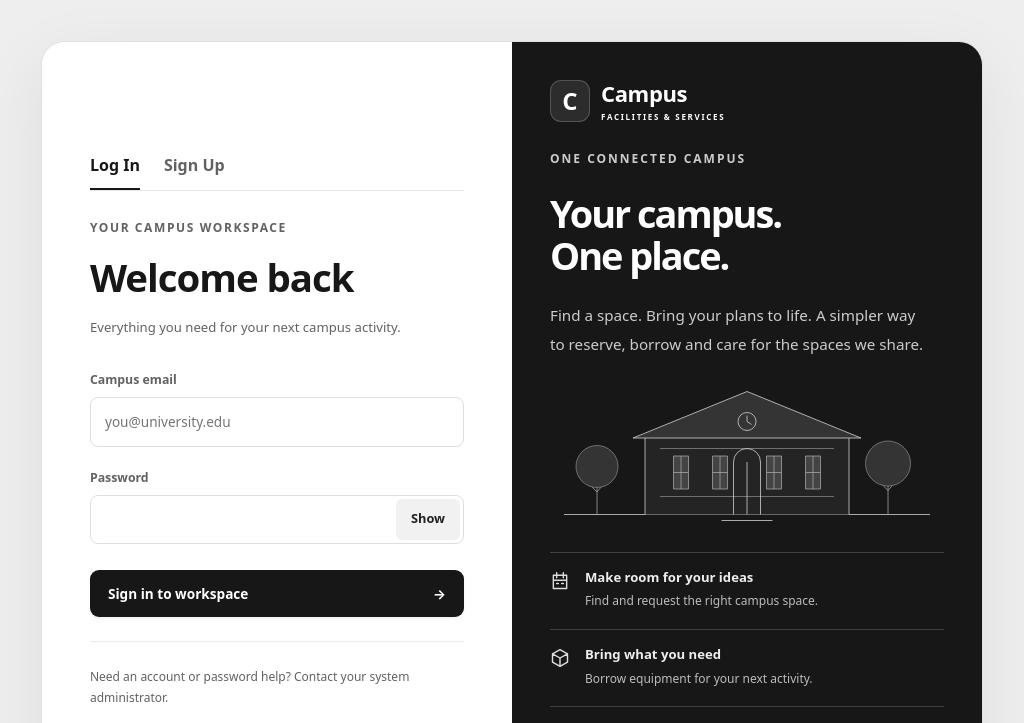
it: administrator can open account management without access to existing passwords
In the field labelled "Campus email": (277, 422) [90,397,464,446], type "fixture@example.test"
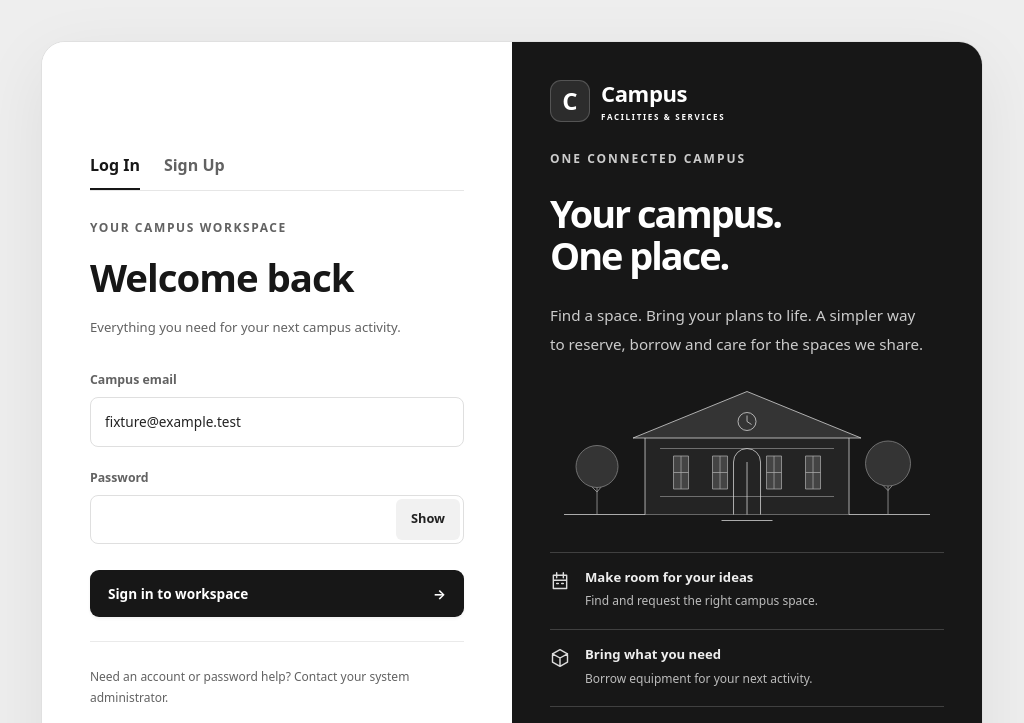
In the password field labelled "Password": (277, 519) [90,495,464,544], type "synthetic-password"
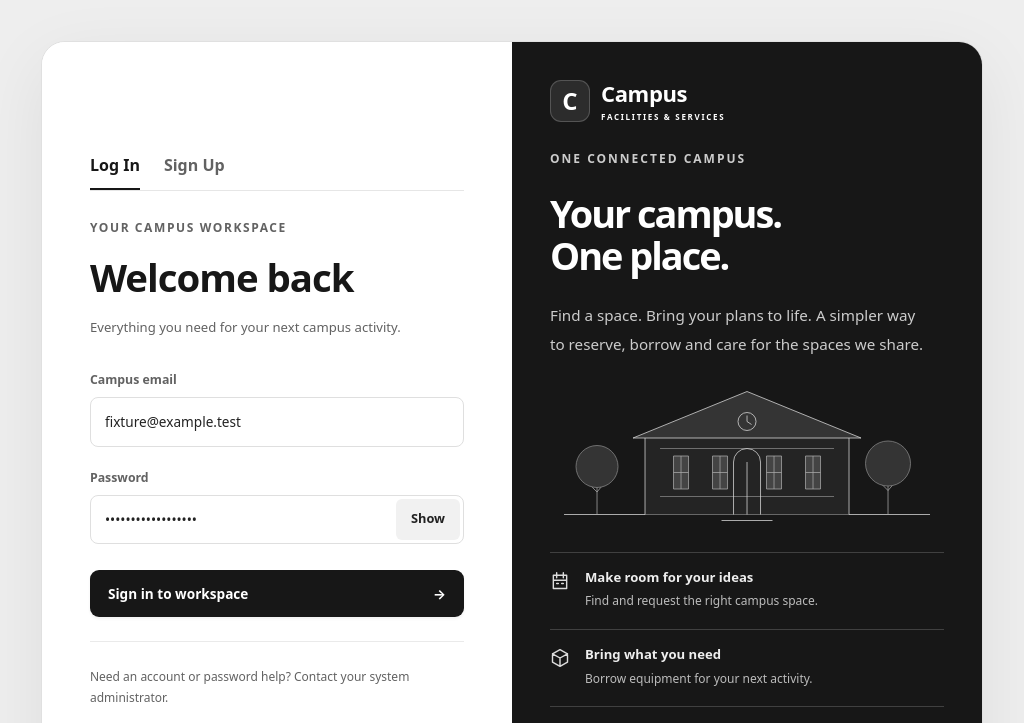
Click the button "Sign in to workspace →": (178, 593) [90,570,464,617]
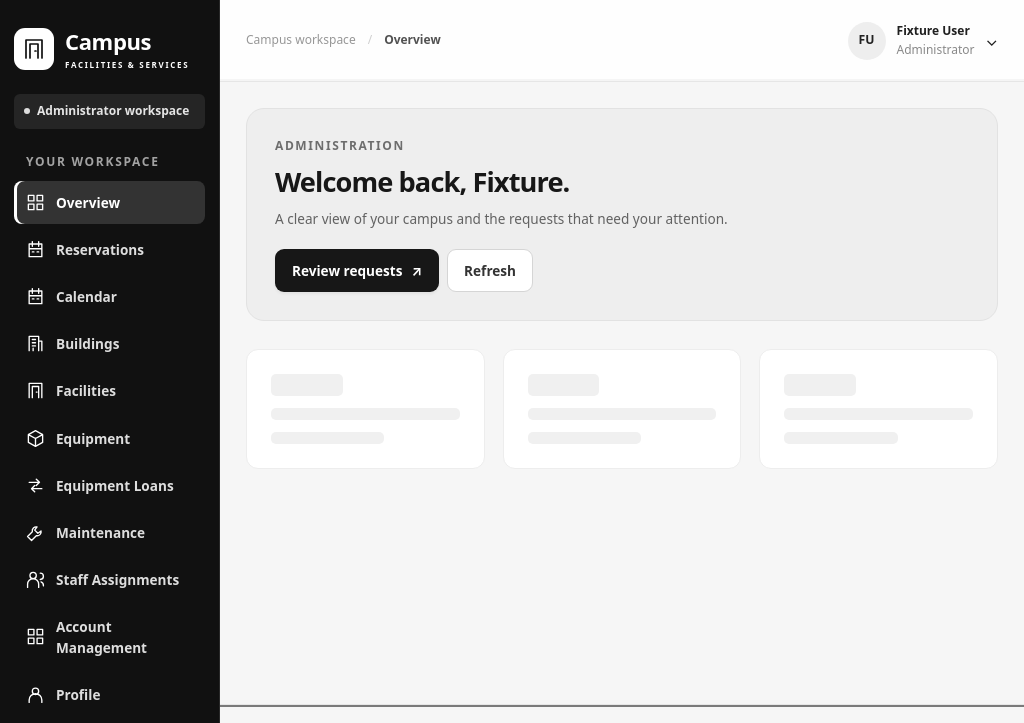
Expected: the heading "Welcome back, Fixture." is shown, [275,163,569,200]
Expected: the link "Account Management" is shown
Click the link "Account Management": (86, 637) [26,617,147,657]
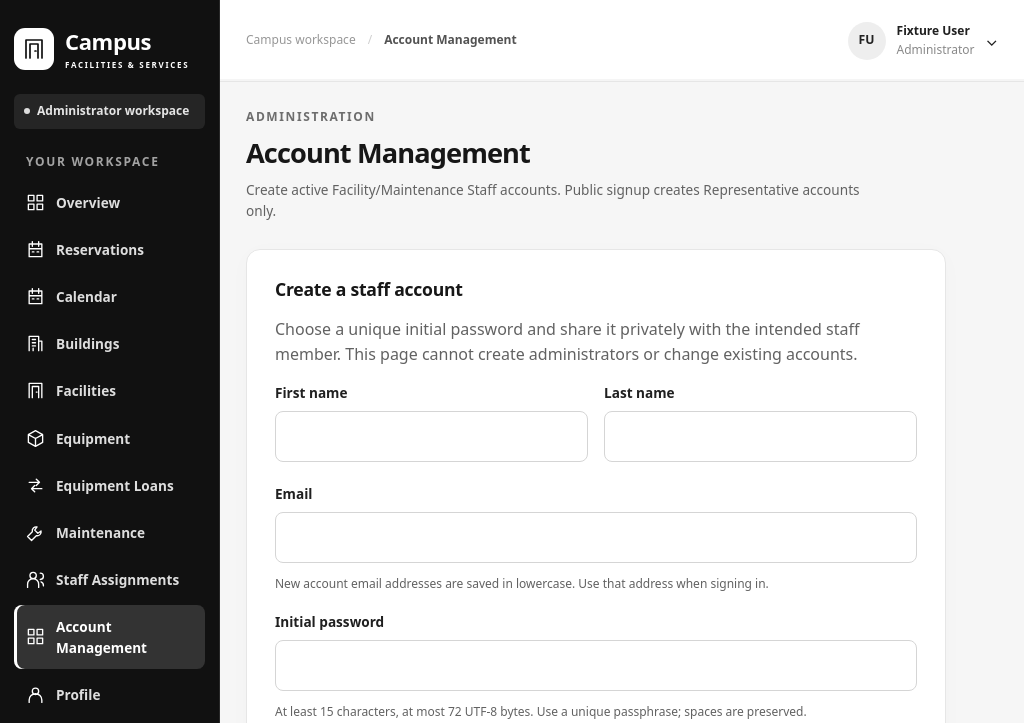
Expected: the password field labelled "Initial password" is empty, [275,640,917,691]
Expected: the heading "Account Management" is shown, [246,134,530,171]
